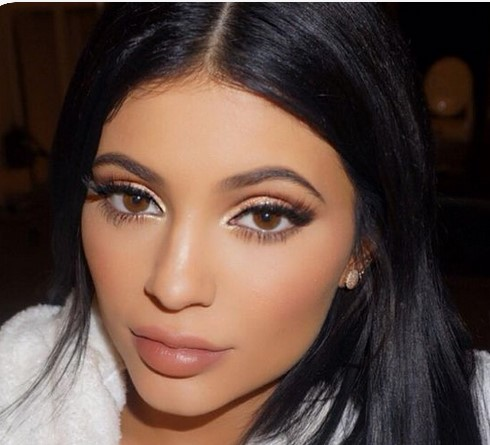face_no_mask: (69, 6, 403, 429)
